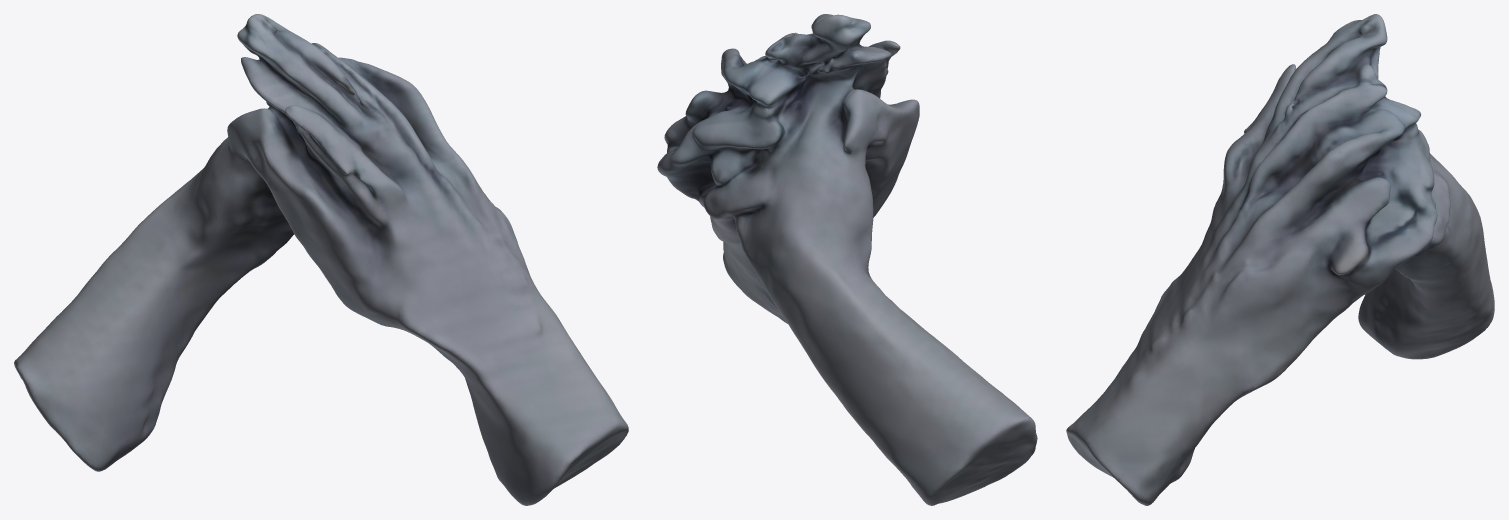
File: cb63e0c32e57_sculpture_hands__3d.fbx
3 views of the same model, side by side, from view 1: azimuth 30°, elevation 25°; view 2: azimuth 150°, elevation 25°; view 3: azimuth 270°, elevation 25° (orthographic). The views are drawn at different scales.
Parts seen in each view (by area): view 1: high_poly; view 2: high_poly; view 3: high_poly.
Boxes of the visible parts, box(x1,y1,x2,y2) form: high_poly: box(14, 14, 628, 505); high_poly: box(657, 14, 1037, 505); high_poly: box(1066, 14, 1494, 505).
Size of the model in its own units: 100 by 92.33 by 87.12.
